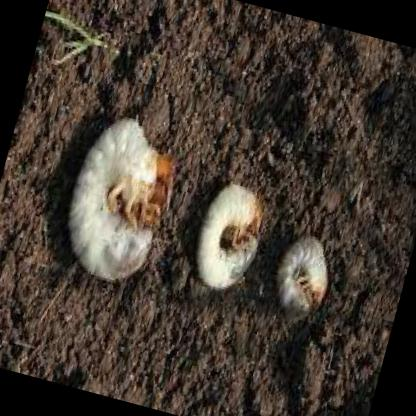root grubs: (70, 119, 175, 283), (199, 183, 260, 288), (279, 236, 326, 312)
